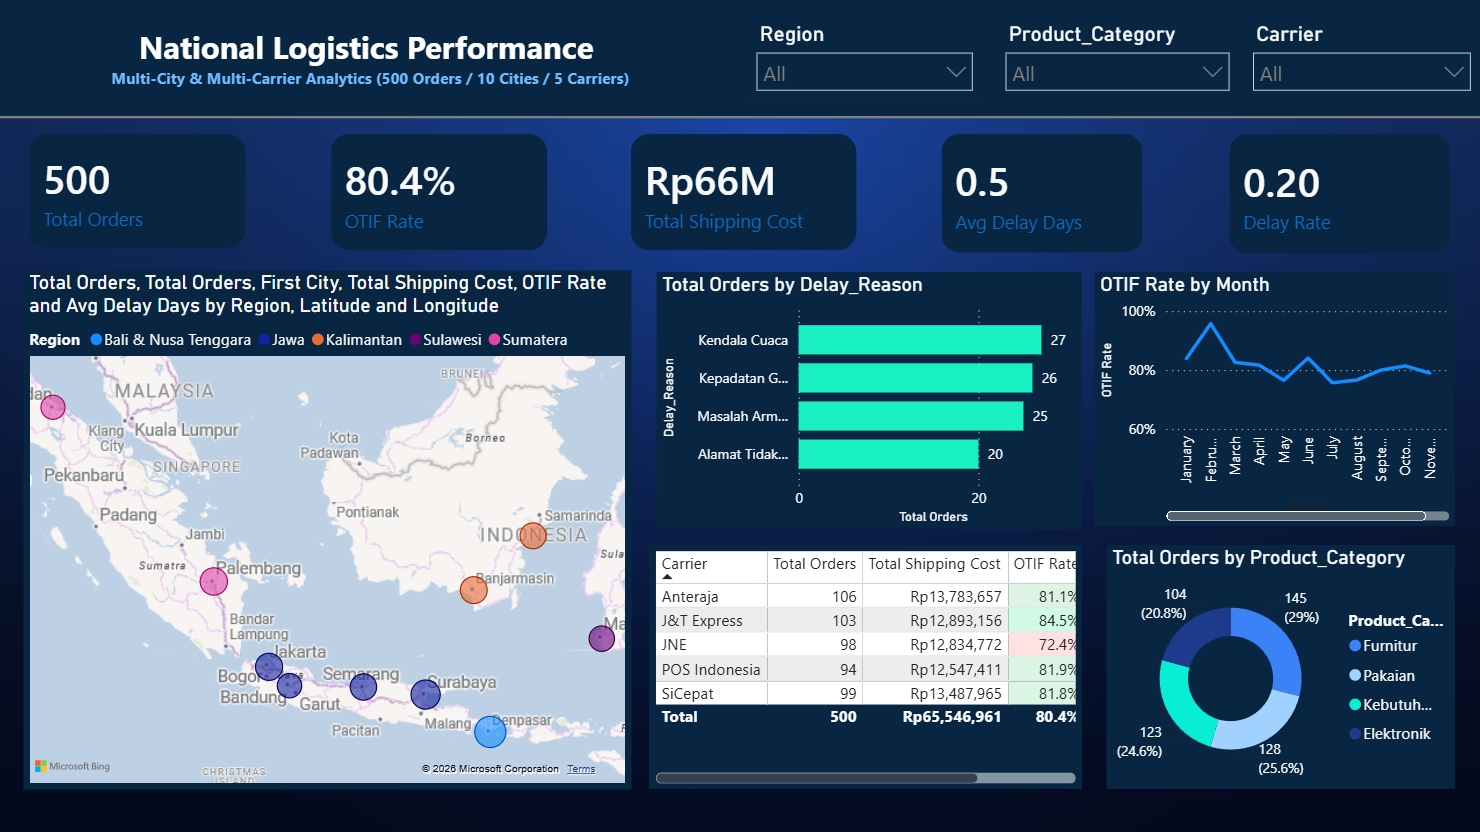

The page's visual inventory and layout, read from the dashboard file:
{"tool":"powerbi","page":{"name":"Dashbord Logistik","canvas":[1280,720],"ordinal":0},"visuals":[{"type":"map","fields":{"Y":["Tabel_Logistik.Latitude"],"X":["Tabel_Logistik.Longitude"],"Size":["Tabel_Logistik.Total Orders"],"Series":["Tabel_Logistik.Region"]},"box":[24.1,233.1,522.5,446.2],"z":0},{"type":"cardVisual","fields":{"Data":["Tabel_Logistik.Total Orders"]},"box":[24.1,110.4,196.5,108.3],"z":1000},{"type":"clusteredBarChart","fields":{"Category":["Tabel_Logistik.Delay_Reason"],"Y":["Tabel_Logistik.Total Orders"]},"box":[569.1,235.6,366.2,221.2],"z":1000},{"type":"lineChart","fields":{"Category":["Tabel_Logistik.Order_Date.Variation.Date Hierarchy.Month"],"Y":["Tabel_Logistik.OTIF Rate"]},"box":[946.6,235.6,310,218.8],"z":2000},{"type":"tableEx","fields":{"Values":["Tabel_Logistik.Carrier","Tabel_Logistik.Total Orders","Tabel_Logistik.Total Shipping Cost","Tabel_Logistik.OTIF Rate","Tabel_Logistik.Avg Delay Days"]},"box":[562.9,469.4,372.5,210],"z":3000},{"type":"donutChart","fields":{"Category":["Tabel_Logistik.Product_Category"],"Y":["Tabel_Logistik.Total Orders"]},"box":[956.6,469.4,300,210],"z":4000},{"type":"shape","box":[0,0,1280,101.1],"z":5000},{"type":"textbox","box":[0,0,646.3,93.3],"z":6000,"group":"g1"},{"type":"slicer","fields":{"Values":["Tabel_Logistik.Region"]},"box":[646,14.8,206.2,70.5],"z":7000,"group":"g1"},{"type":"shape","box":[0,92.2,1280,20],"z":7000},{"type":"group","id":"g1","title":"Group 2","box":[0,0,1280,93.3],"z":8000},{"type":"slicer","fields":{"Values":["Tabel_Logistik.Product_Category"]},"box":[859.9,14.8,212.6,71.5],"z":8000,"group":"g1"},{"type":"slicer","fields":{"Values":["Tabel_Logistik.Carrier"]},"box":[1072.5,14.8,207.5,71.5],"z":9000,"group":"g1"},{"type":"cardVisual","fields":{"Data":["Tabel_Logistik.OTIF Rate"]},"box":[283.4,110.4,196.5,110.9],"z":11000},{"type":"cardVisual","fields":{"Data":["Tabel_Logistik.Total Shipping Cost"]},"box":[542.8,110.4,204.5,110.9],"z":12000},{"type":"cardVisual","fields":{"Data":["Tabel_Logistik.Avg Delay Days"]},"box":[810.1,110.4,183.1,112.2],"z":13000},{"type":"cardVisual","fields":{"Data":["Tabel_Logistik.Delay Rate"]},"box":[1056.9,110.4,200,113.8],"z":14000}]}

Visuals, with their boxes in screenshot pixels (x1, y1, x2, y2), scaled from the page's 1280x720 canvas onto the 1480x832 screenshot:
map - Tabel_Logistik.Latitude x Tabel_Logistik.Longitude: select_region(28, 269, 632, 785)
cardVisual - Tabel_Logistik.Total Orders: select_region(28, 128, 255, 253)
clusteredBarChart - Tabel_Logistik.Delay_Reason x Tabel_Logistik.Total Orders: select_region(658, 272, 1081, 528)
lineChart - Tabel_Logistik.Order_Date.Variation.Date Hierarchy.Month x Tabel_Logistik.OTIF Rate: select_region(1095, 272, 1453, 525)
tableEx - Tabel_Logistik.Carrier x Tabel_Logistik.Total Orders: select_region(651, 542, 1082, 785)
donutChart - Tabel_Logistik.Product_Category x Tabel_Logistik.Total Orders: select_region(1106, 542, 1453, 785)
shape: select_region(0, 0, 1479, 117)
textbox: select_region(0, 0, 747, 108)
slicer - Tabel_Logistik.Region: select_region(747, 17, 985, 99)
shape: select_region(0, 107, 1479, 130)
"Group 2" group: select_region(0, 0, 1479, 108)
slicer - Tabel_Logistik.Product_Category: select_region(994, 17, 1240, 100)
slicer - Tabel_Logistik.Carrier: select_region(1240, 17, 1479, 100)
cardVisual - Tabel_Logistik.OTIF Rate: select_region(328, 128, 555, 256)
cardVisual - Tabel_Logistik.Total Shipping Cost: select_region(628, 128, 864, 256)
cardVisual - Tabel_Logistik.Avg Delay Days: select_region(937, 128, 1148, 257)
cardVisual - Tabel_Logistik.Delay Rate: select_region(1222, 128, 1453, 259)
